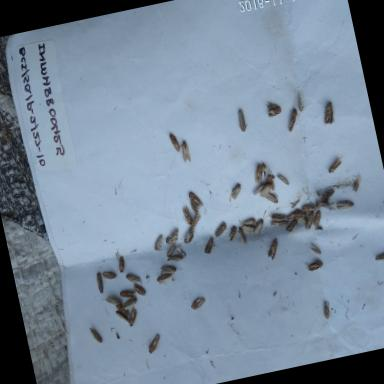pbw: (282, 106, 306, 134), (262, 96, 288, 120), (290, 85, 308, 113), (122, 268, 144, 290), (268, 207, 292, 227), (264, 236, 282, 262), (257, 180, 278, 202), (325, 154, 346, 176), (233, 107, 250, 134), (226, 178, 245, 202), (223, 224, 241, 249), (178, 138, 194, 166), (333, 195, 356, 214), (264, 214, 288, 232), (186, 188, 204, 212), (144, 332, 162, 356), (234, 224, 251, 249), (316, 196, 337, 216), (302, 257, 324, 276), (250, 160, 266, 186), (274, 168, 292, 190), (92, 268, 106, 296), (301, 209, 318, 231), (117, 282, 137, 300), (112, 254, 130, 274), (187, 295, 207, 313), (98, 268, 118, 286), (87, 324, 103, 346), (310, 206, 326, 228), (156, 262, 178, 278), (180, 224, 196, 246), (179, 202, 193, 227), (168, 130, 182, 155), (318, 186, 337, 204), (186, 212, 204, 231), (237, 213, 257, 230), (130, 280, 147, 300), (100, 293, 121, 309), (151, 231, 166, 253), (125, 306, 140, 328), (154, 271, 176, 286), (282, 217, 300, 235), (320, 298, 334, 321), (200, 236, 216, 256), (250, 216, 266, 236), (113, 308, 130, 326), (212, 220, 229, 238), (115, 300, 130, 320), (283, 206, 303, 221), (264, 190, 280, 208), (121, 296, 140, 311), (164, 252, 184, 266), (164, 232, 182, 247), (163, 242, 179, 258), (250, 182, 268, 196), (300, 201, 319, 214), (264, 172, 276, 192), (241, 222, 258, 236), (308, 241, 322, 257), (188, 198, 200, 216), (259, 160, 270, 179), (166, 226, 180, 240), (372, 249, 384, 265), (294, 214, 308, 226), (292, 212, 306, 222)
